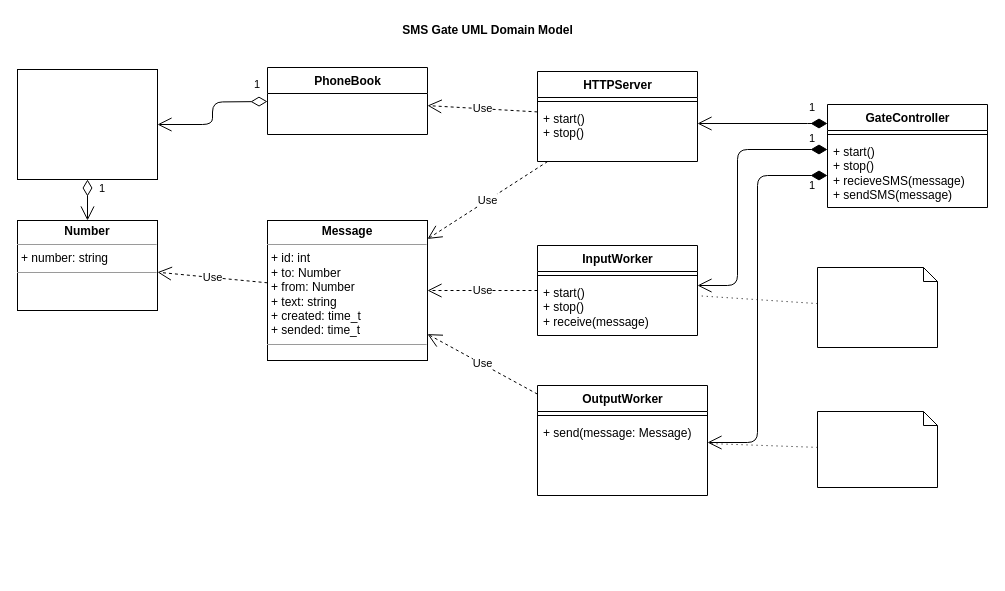
Image size: 1005x591. Some labels were removed from this diagram. Each missing label, with the centre of its shape:
"<< entity >> Record + id: int + firstName: string + secondName: string" belongs at (x=87, y=124).
"подготавливает и создает новое СМС в папке outgoing для отправки через smsd" belongs at (x=877, y=449).
"следит за папкой incoming и обрабатывает полученные через smsd SMS" belongs at (x=877, y=307).
